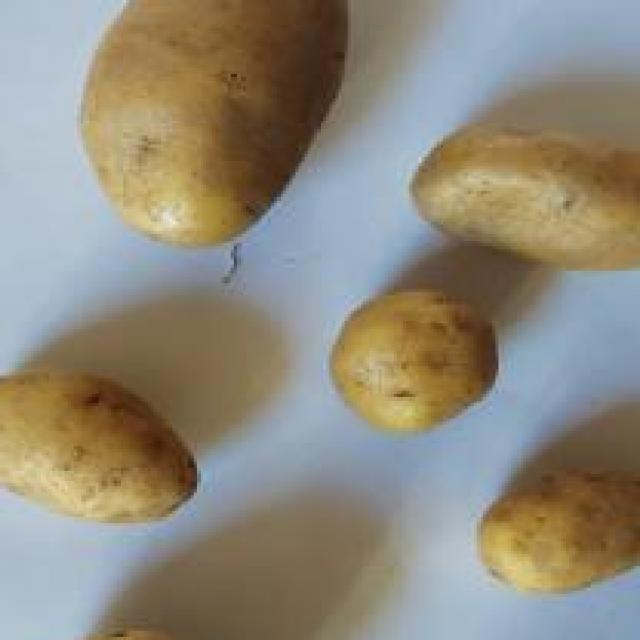potato: (71, 0, 354, 252), (0, 360, 200, 526), (418, 123, 640, 271), (325, 287, 503, 438), (467, 455, 640, 596)
